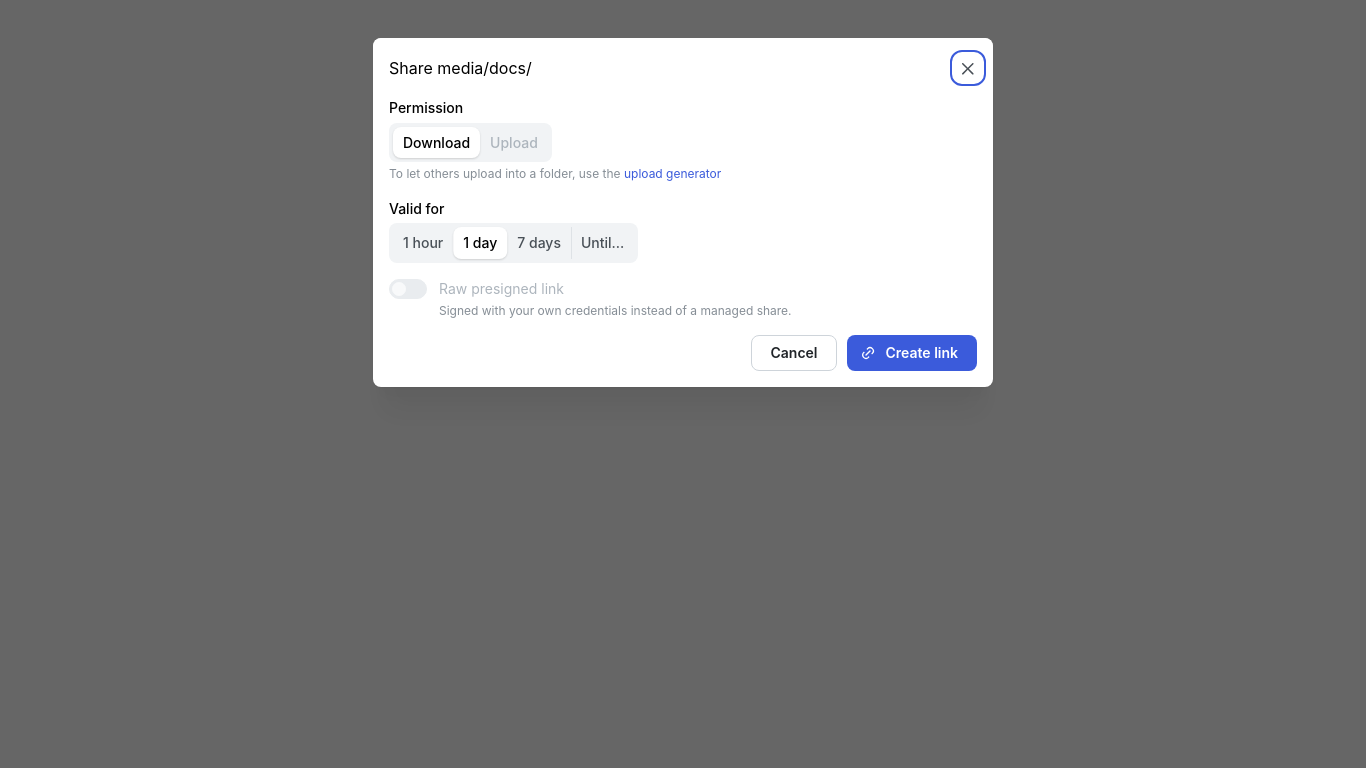
Test case: ShareDialog (TD-U-10) › shares a prefix for download only
Expected: the radio button labelled "Upload" is disabled, [490,134,538,151]
Expected: the switch labelled "Raw presigned link" is disabled, [389,279,792,318]
Click the button "Create link" at (912,352), box [846,334,977,370]
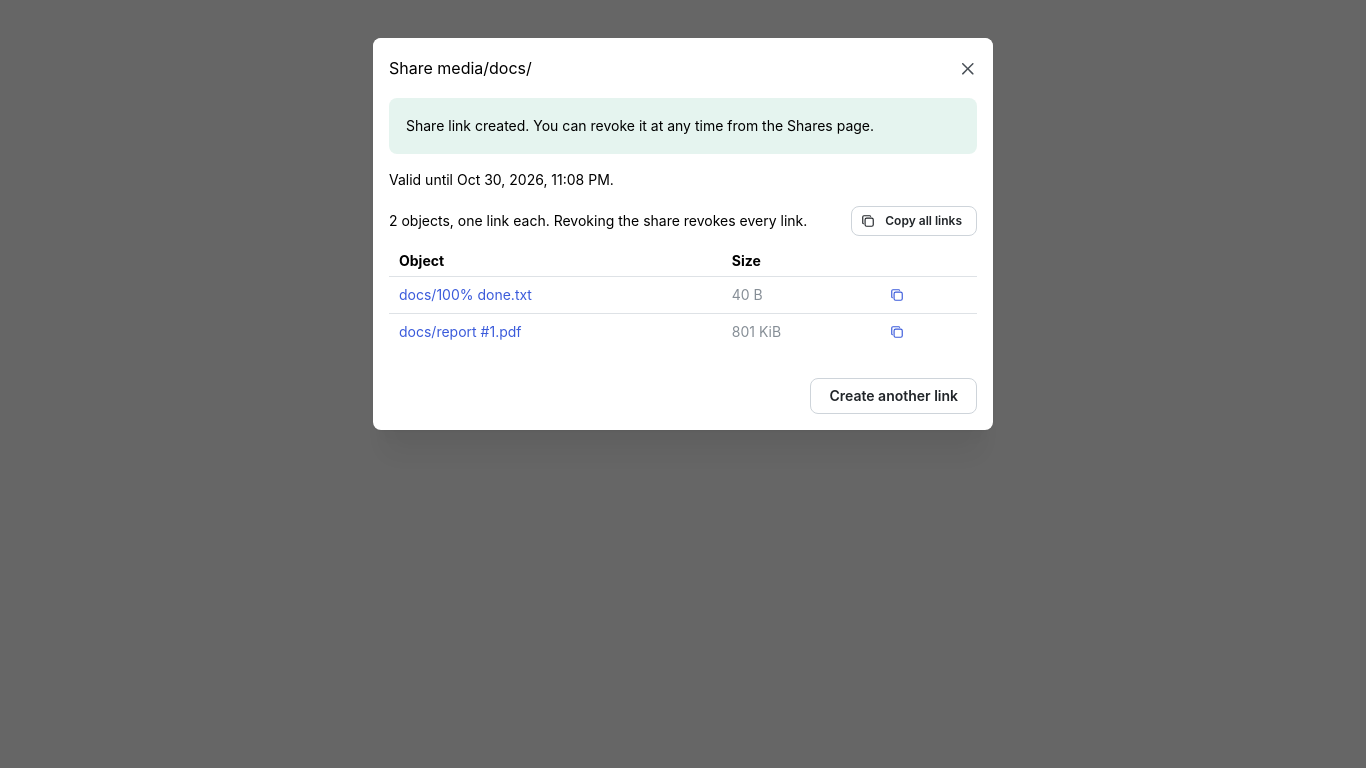
Expected: the text "Share link created" is shown, [406,117,874,134]
